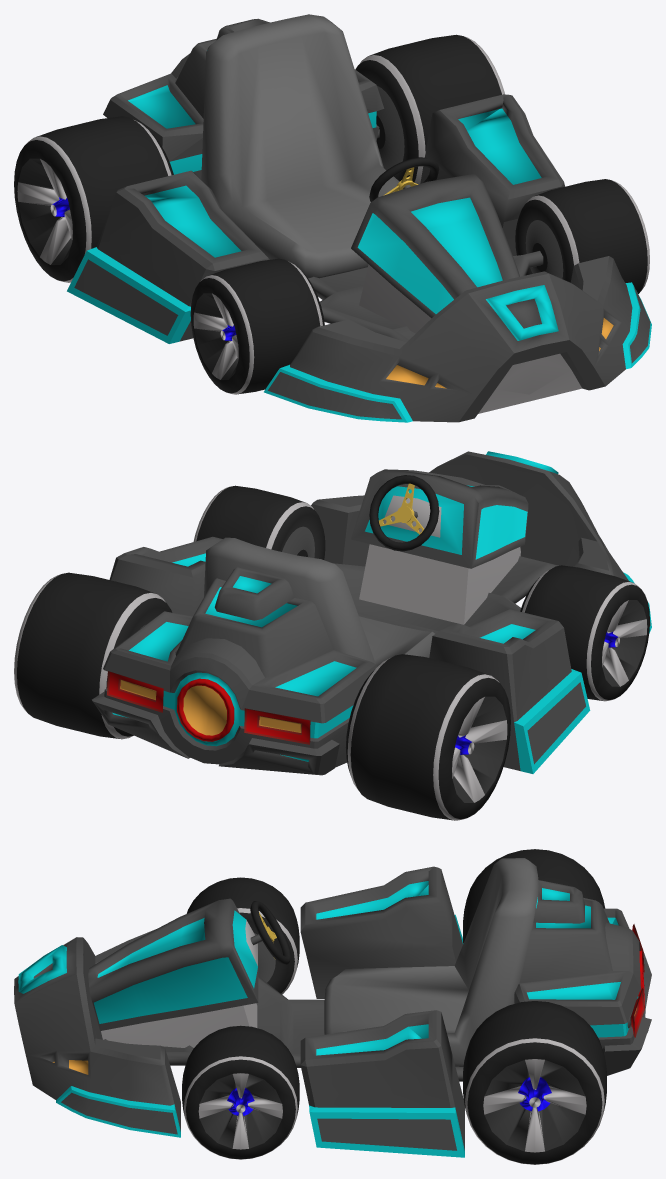
File: 01_XE XANH DEN.fbx
The picture shows the model from 3 angles, top to bottom: view 1: azimuth 30°, elevation 25°; view 2: azimuth 150°, elevation 25°; view 3: azimuth 270°, elevation 25°; orthographic projection. The views are drawn at different scales.
Visible parts, largest first — view 1: Than Xe, Banh.001, Banh.004, Banh.003, Banh.002, Vo Lang; view 2: Than Xe, Banh.001, Banh.003, Banh.004, Banh.002, Vo Lang, normal_kart_root.polymsh21; view 3: Than Xe, Banh.003, Banh.002, Banh.004, Banh.001, Vo Lang.
Part boxes in pixels (x1,y1,x2,y2): Than Xe: (67, 14, 651, 422); Banh.001: (14, 116, 173, 282); Banh.004: (190, 258, 324, 394); Banh.003: (355, 34, 504, 184); Banh.002: (515, 179, 649, 293); Vo Lang: (369, 157, 439, 202); Than Xe: (92, 451, 651, 775); Banh.001: (345, 654, 510, 820); Banh.003: (14, 572, 172, 739); Banh.004: (520, 565, 649, 701); Banh.002: (193, 485, 325, 559); Vo Lang: (369, 475, 439, 551); normal_kart_root.polymsh21: (379, 483, 424, 534); Than Xe: (14, 858, 651, 1157); Banh.003: (463, 1001, 606, 1164); Banh.002: (182, 1025, 299, 1159); Banh.004: (186, 877, 299, 994); Banh.001: (463, 849, 605, 943); Vo Lang: (250, 901, 291, 964).
Size of the model in its own units: 180 by 76.37 by 229.
